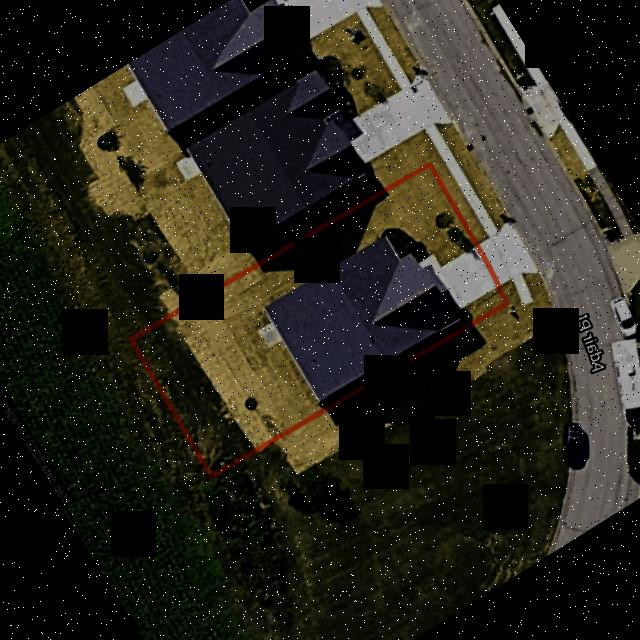Driveway: (0, 99, 569, 640), (417, 247, 496, 310)
Extra Driveway: (477, 219, 538, 286)
Extra Lawn: (211, 283, 572, 640), (450, 142, 508, 233), (431, 156, 488, 244), (501, 279, 519, 304), (519, 274, 543, 292)
Extra Sidewalk: (440, 151, 496, 237), (511, 273, 533, 306)
House: (266, 238, 460, 400)
Other: (256, 323, 280, 346)
